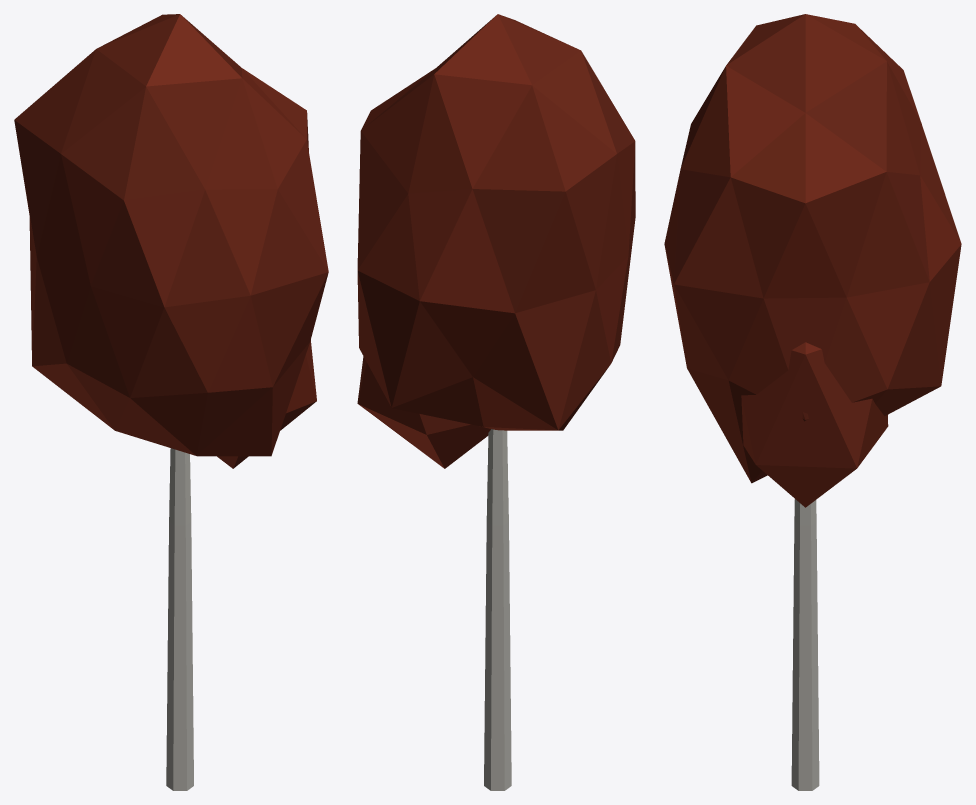
The model's file is tree_birch_far.glb.
3 views of the same model, side by side, from view 1: azimuth 30°, elevation 25°; view 2: azimuth 150°, elevation 25°; view 3: azimuth 270°, elevation 25° (orthographic).
Parts seen in each view (by area): view 1: tree_birch_far; view 2: tree_birch_far; view 3: tree_birch_far.
Boxes of the visible parts, box(x1,y1,x2,y2) form: tree_birch_far: box(14, 14, 328, 790); tree_birch_far: box(357, 14, 635, 790); tree_birch_far: box(664, 14, 961, 790).
Bounding box in the file's own units: 4.11 × 12.25 × 4.28.
